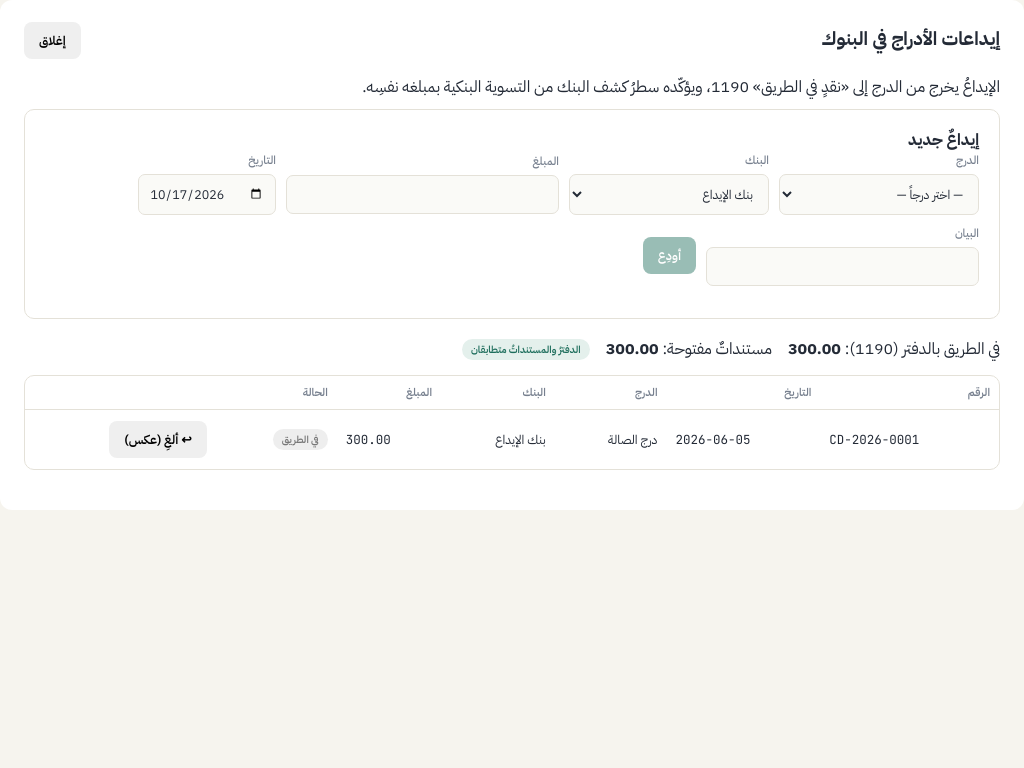
لوحةُ إيداعات الأدراج › تعرض رصيدَ الطريق ومجموعَ المستندات كما جاءا، وترسل الإيداعَ الجديد بالدرج والبنك والمبلغ
This screenshot has width=1024, height=768.
Expected: the text "CD-2026-0001" is shown, [820, 410, 999, 469]
Expected: the element with test id "in-transit-ledger" shows "300.00", [788, 337, 841, 361]
Select "درج الصالة — 500.00" in the dropdown labelled "الدرج" at (879, 194), box [779, 174, 979, 215]
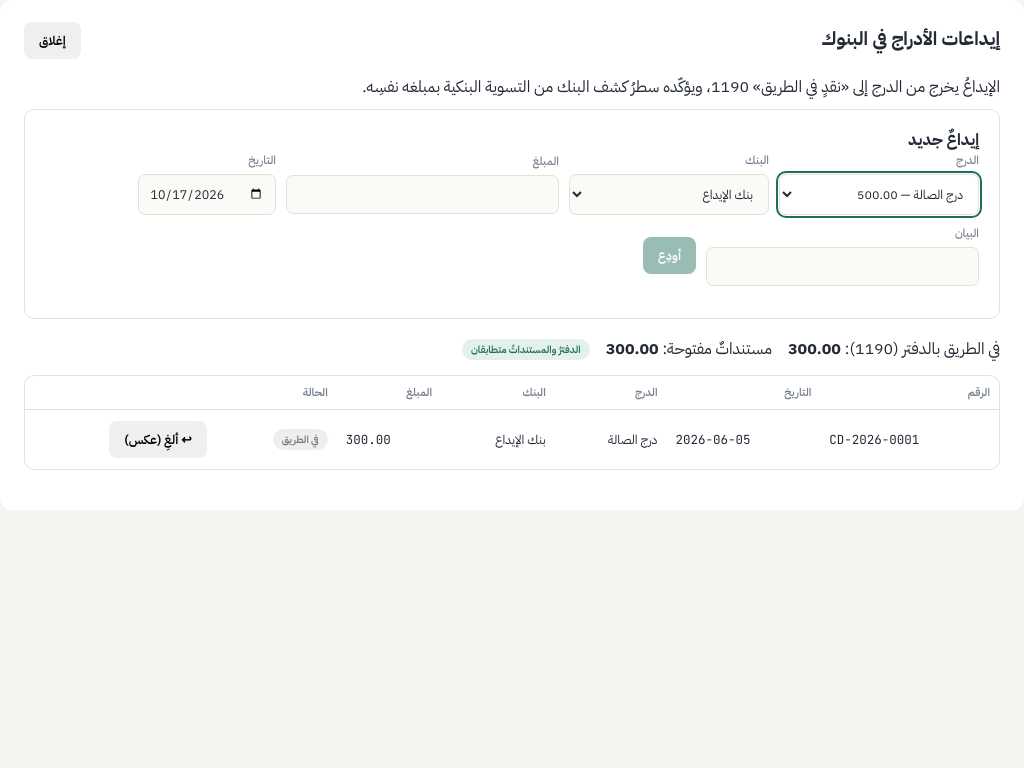
Select "بنك الإيداع" in the dropdown labelled "البنك" at (669, 194), box [569, 174, 769, 215]
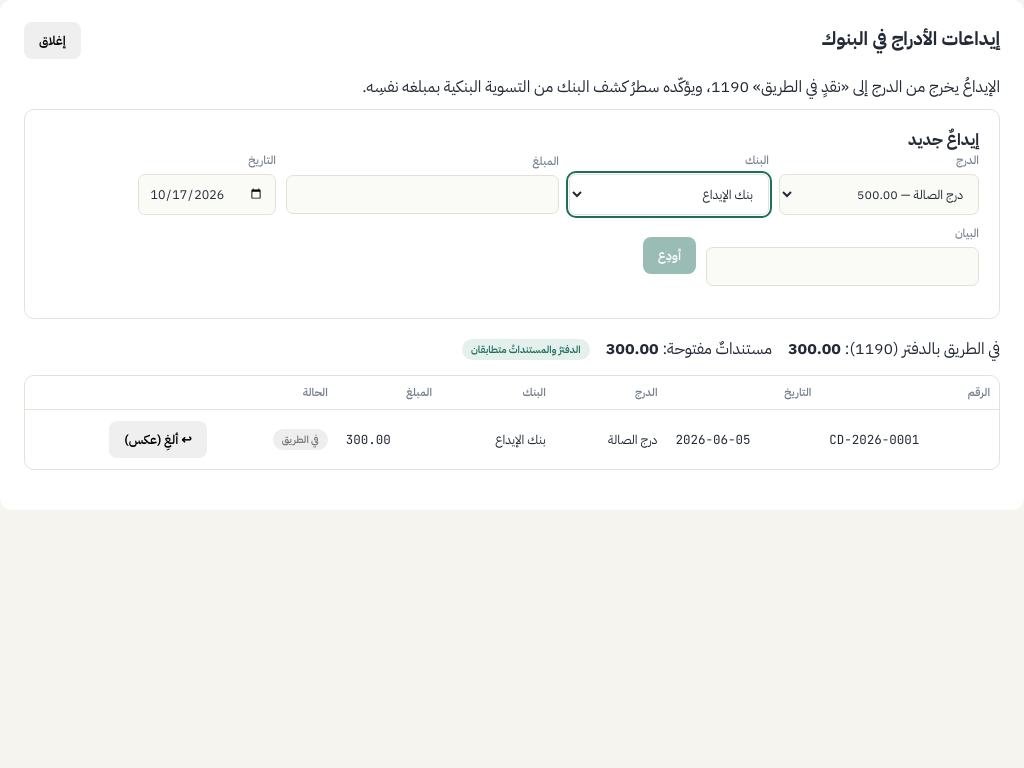
Type "2026-06-09" into the date field labelled "التاريخ" at (207, 194), box [138, 174, 276, 215]
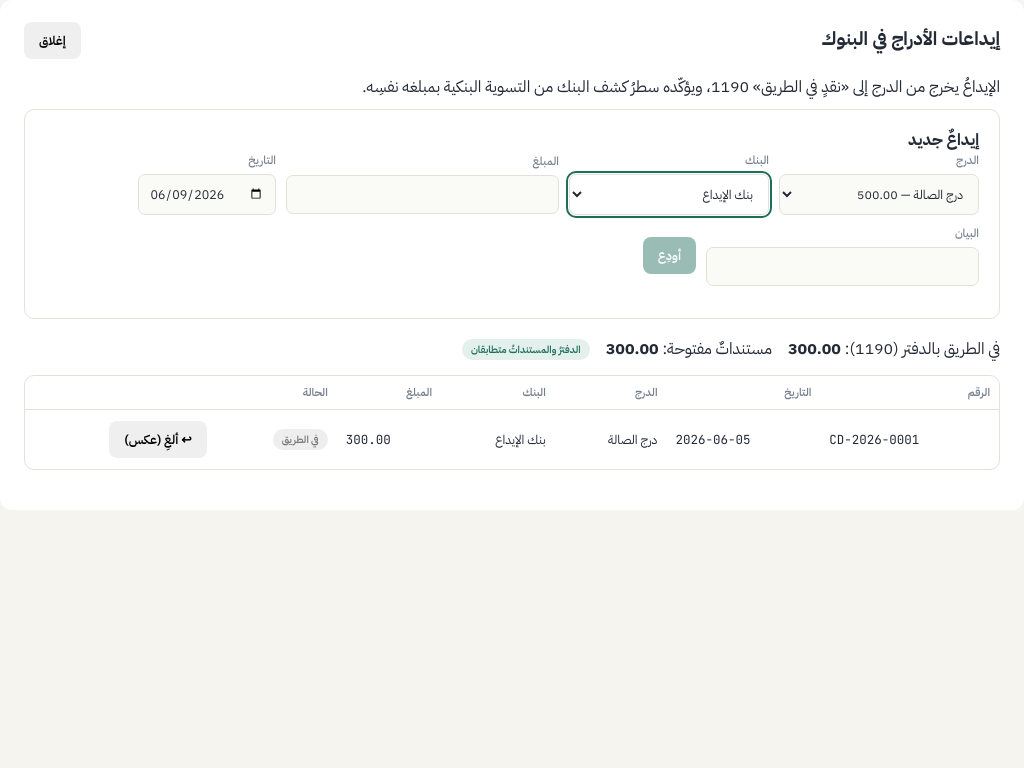
Type "120" into the number field labelled "المبلغ" at (422, 194), box [286, 175, 559, 214]
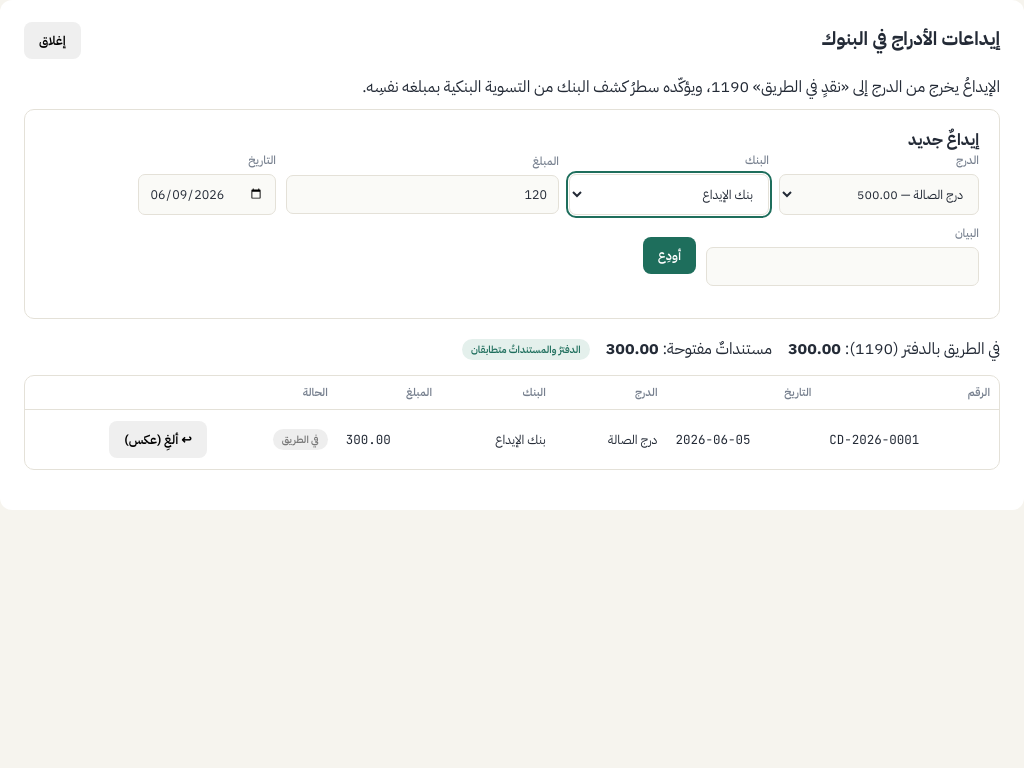
Click the button "أودِع" at (669, 256), box [643, 237, 696, 274]
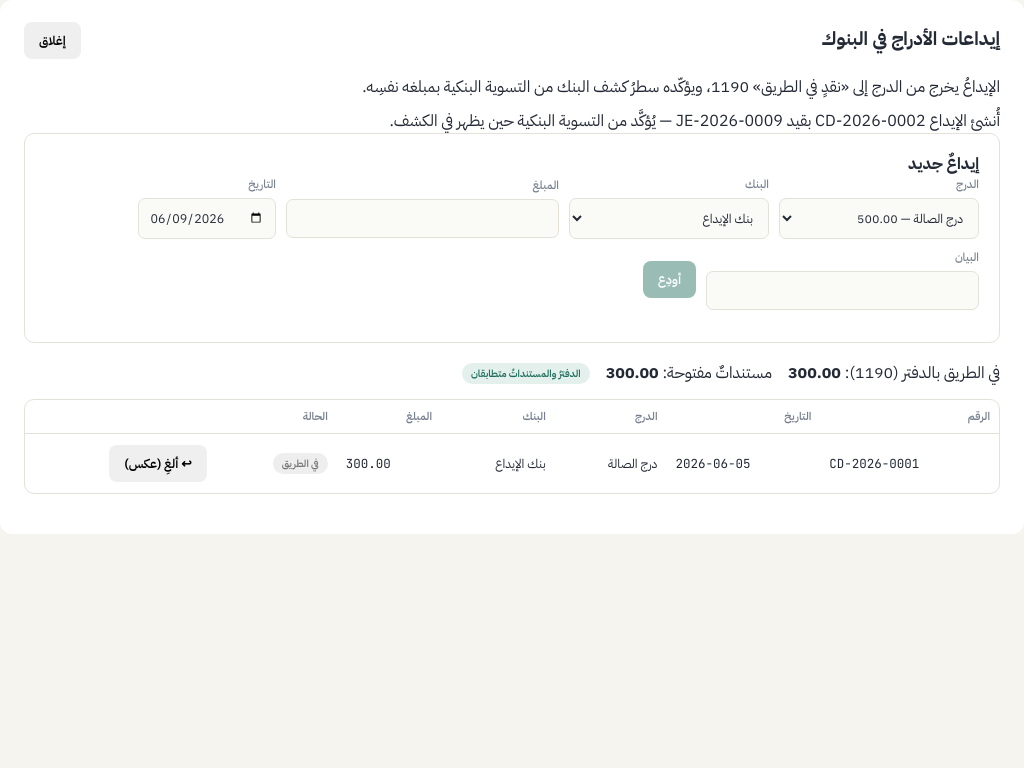
Result: the text with test id "deposit-notice" shows "CD-2026-0002" at [389, 109, 1000, 133]
Result: the text with test id "deposit-notice" shows "JE-2026-0009" at [389, 109, 1000, 133]
